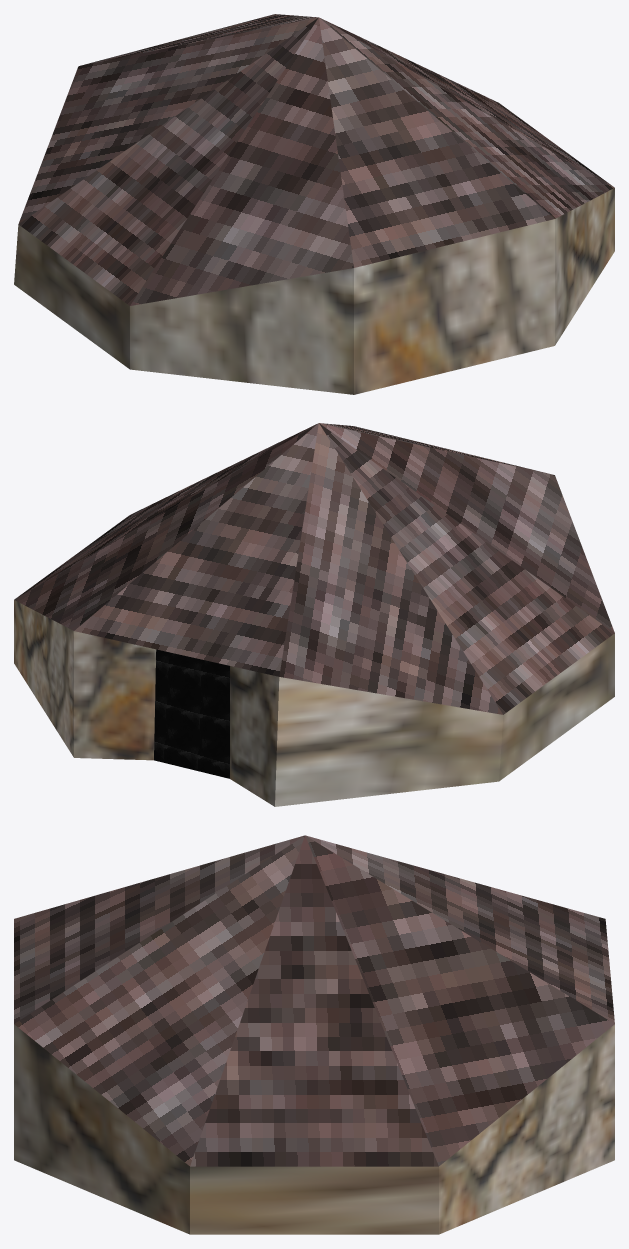
Rendered from castro1.fbx.
The picture shows the model from 3 angles, top to bottom: view 1: azimuth 30°, elevation 25°; view 2: azimuth 150°, elevation 25°; view 3: azimuth 270°, elevation 25°; orthographic projection. The views are drawn at different scales.
Visible parts, largest first — view 1: cylinder; view 2: cylinder; view 3: cylinder.
Part boxes in pixels (x1,y1,x2,y2): cylinder: (14, 14, 614, 394); cylinder: (14, 423, 614, 806); cylinder: (14, 835, 614, 1234).
Size of the model in its own units: 100 by 50 by 100.
3 materials, 3 textured.
